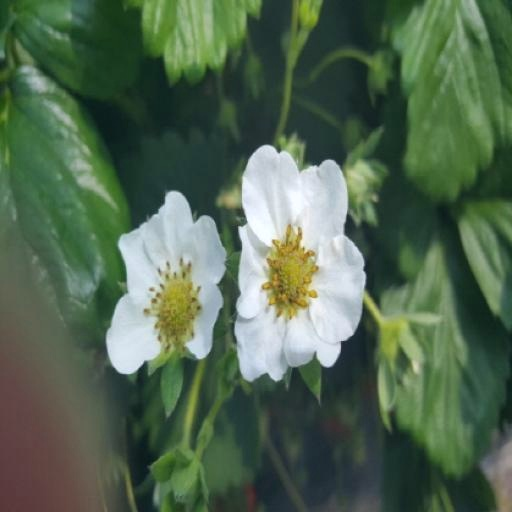Blossom Blight: (258, 221, 324, 322), (141, 254, 207, 355)
